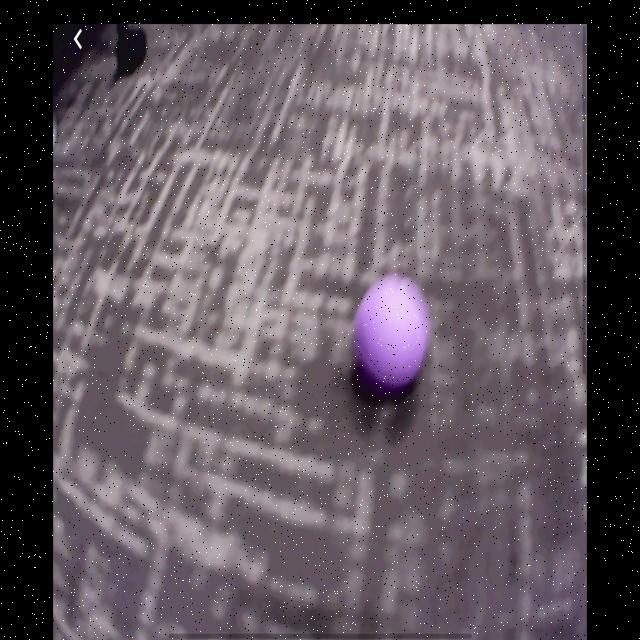ball: (350, 272, 433, 401)
